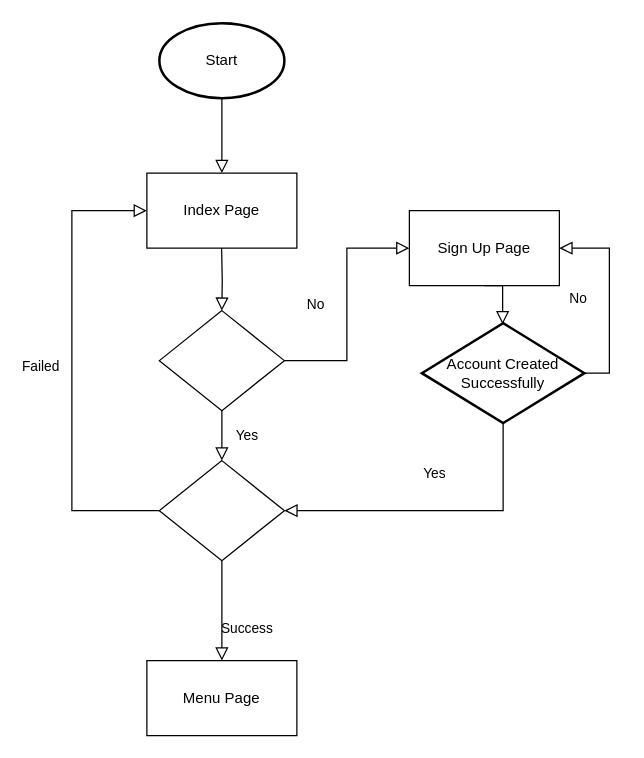
This 644x758 diagram has some shape labels left out. The shapes that lost their labels are listed below. From the top down, each one's centre as x and y in pixels, then its label:
the point at 221,360: User has Account
the point at 221,510: Sign In
